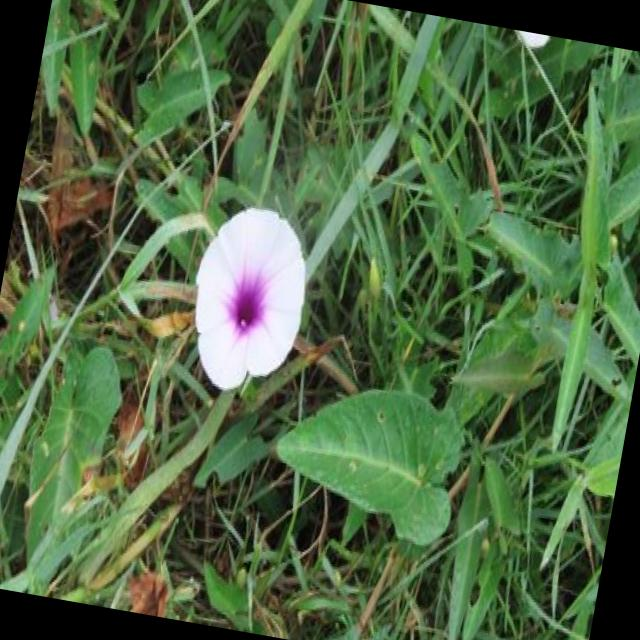ipomoea: (173, 192, 322, 406)
